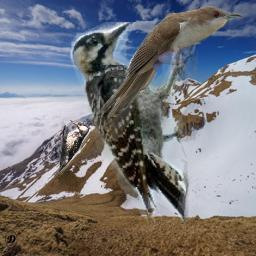Cuckoo: (96, 6, 243, 117)
Woodpecker: (69, 22, 198, 225), (59, 119, 89, 175)
